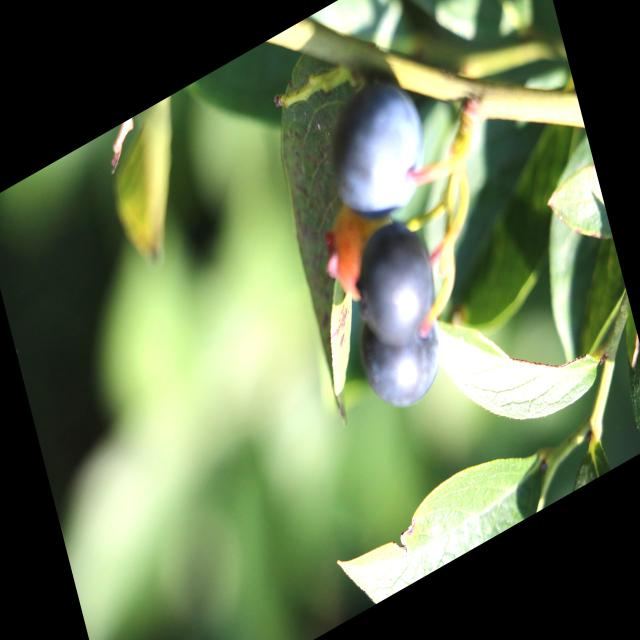blueberry: (312, 52, 443, 248), (339, 198, 455, 374), (348, 276, 460, 436)
